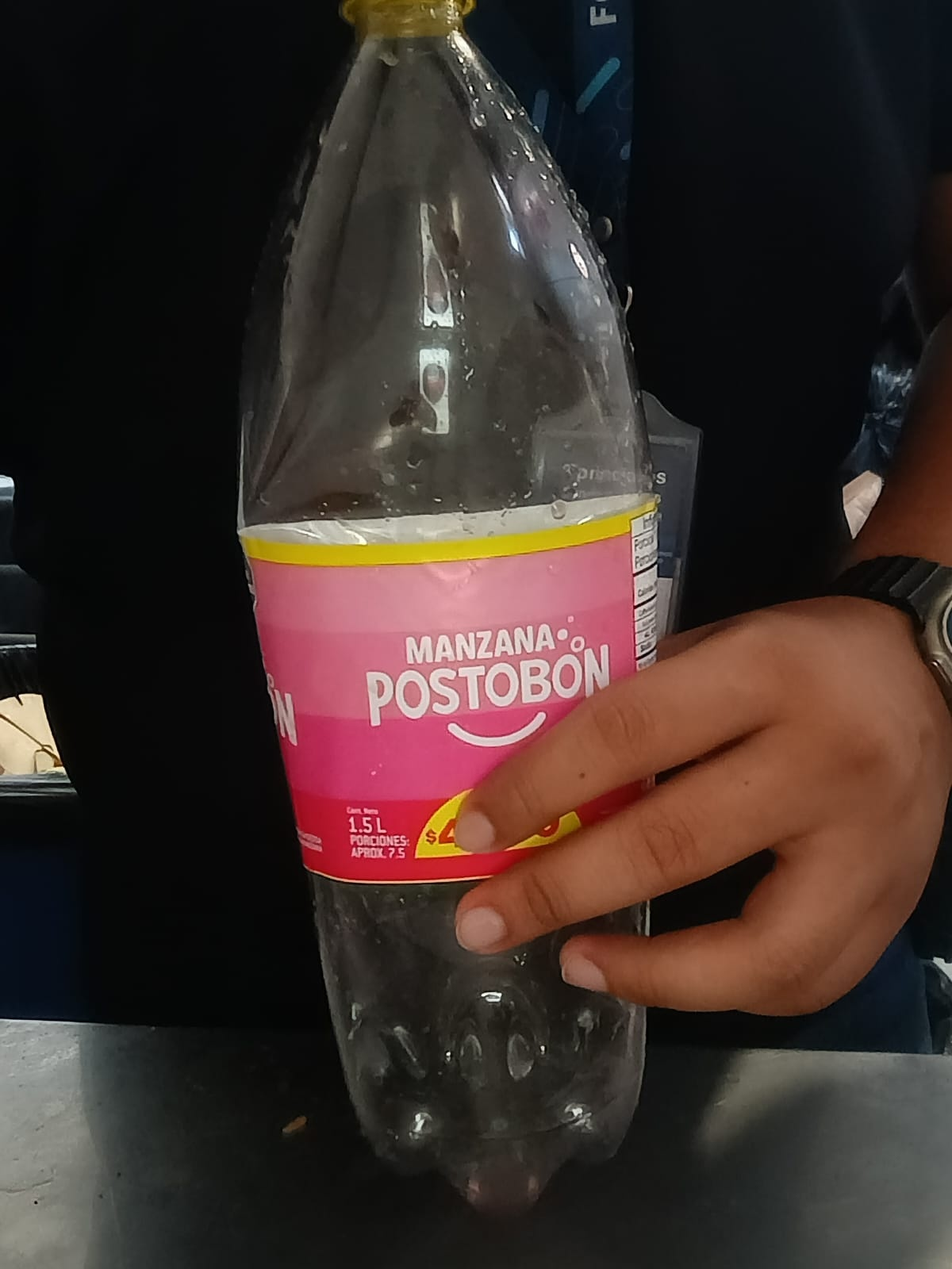Plastico: (237, 7, 660, 1218)
